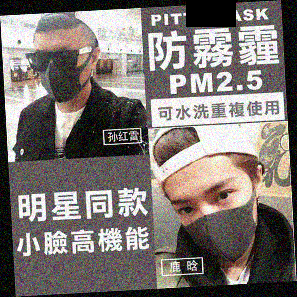with_mask: (169, 177, 258, 266), (35, 45, 84, 104)
